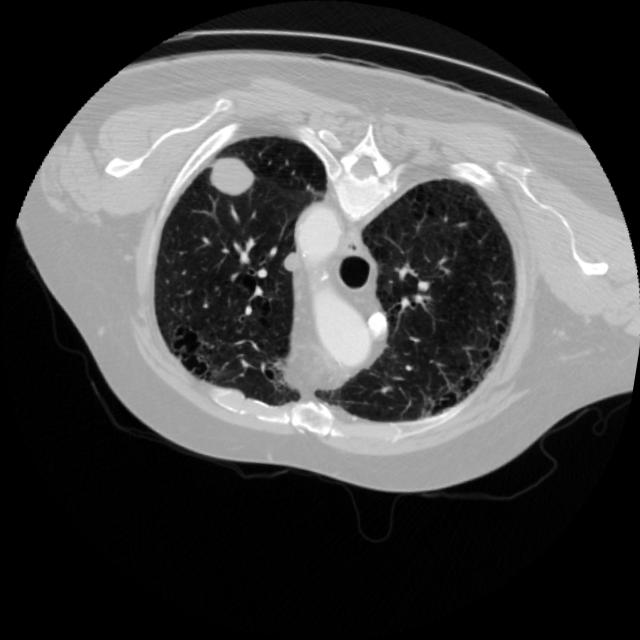nodule: (271, 242, 311, 282)
